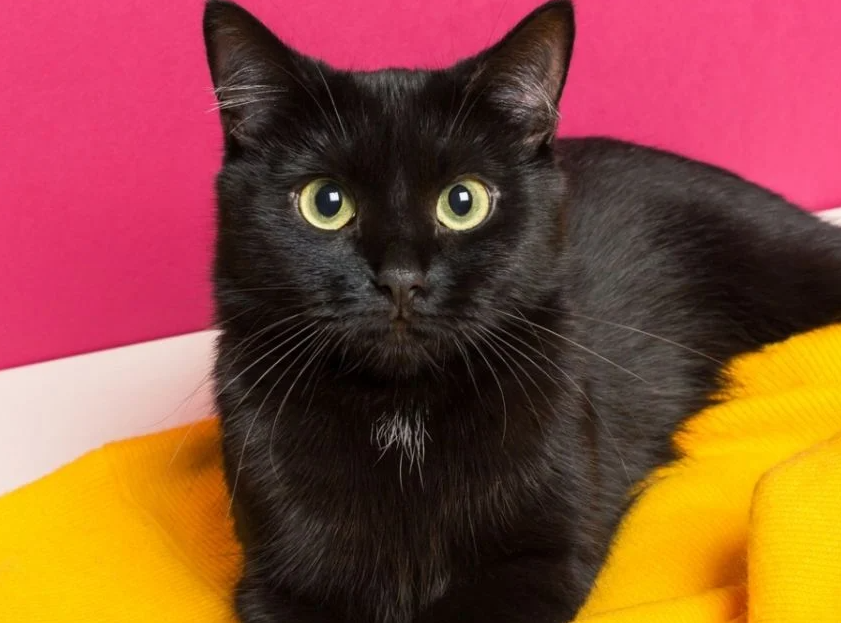gato: (194, 1, 660, 623)
